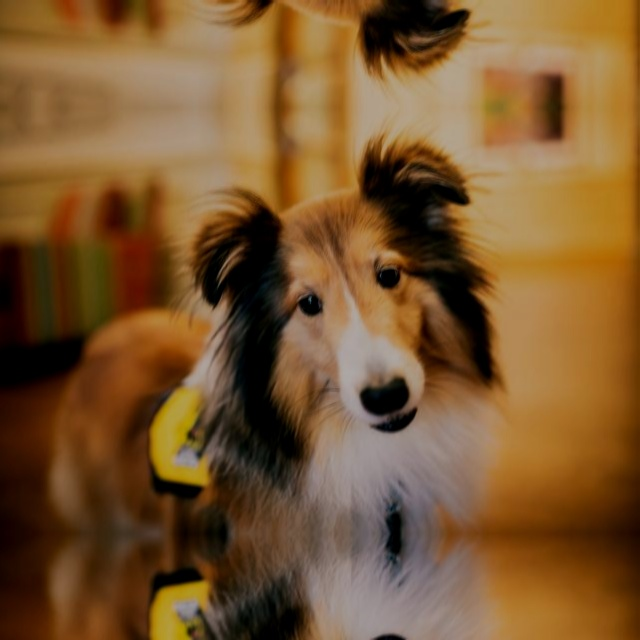dog: (156, 145, 542, 506), (155, 559, 542, 640), (155, 0, 542, 66)
